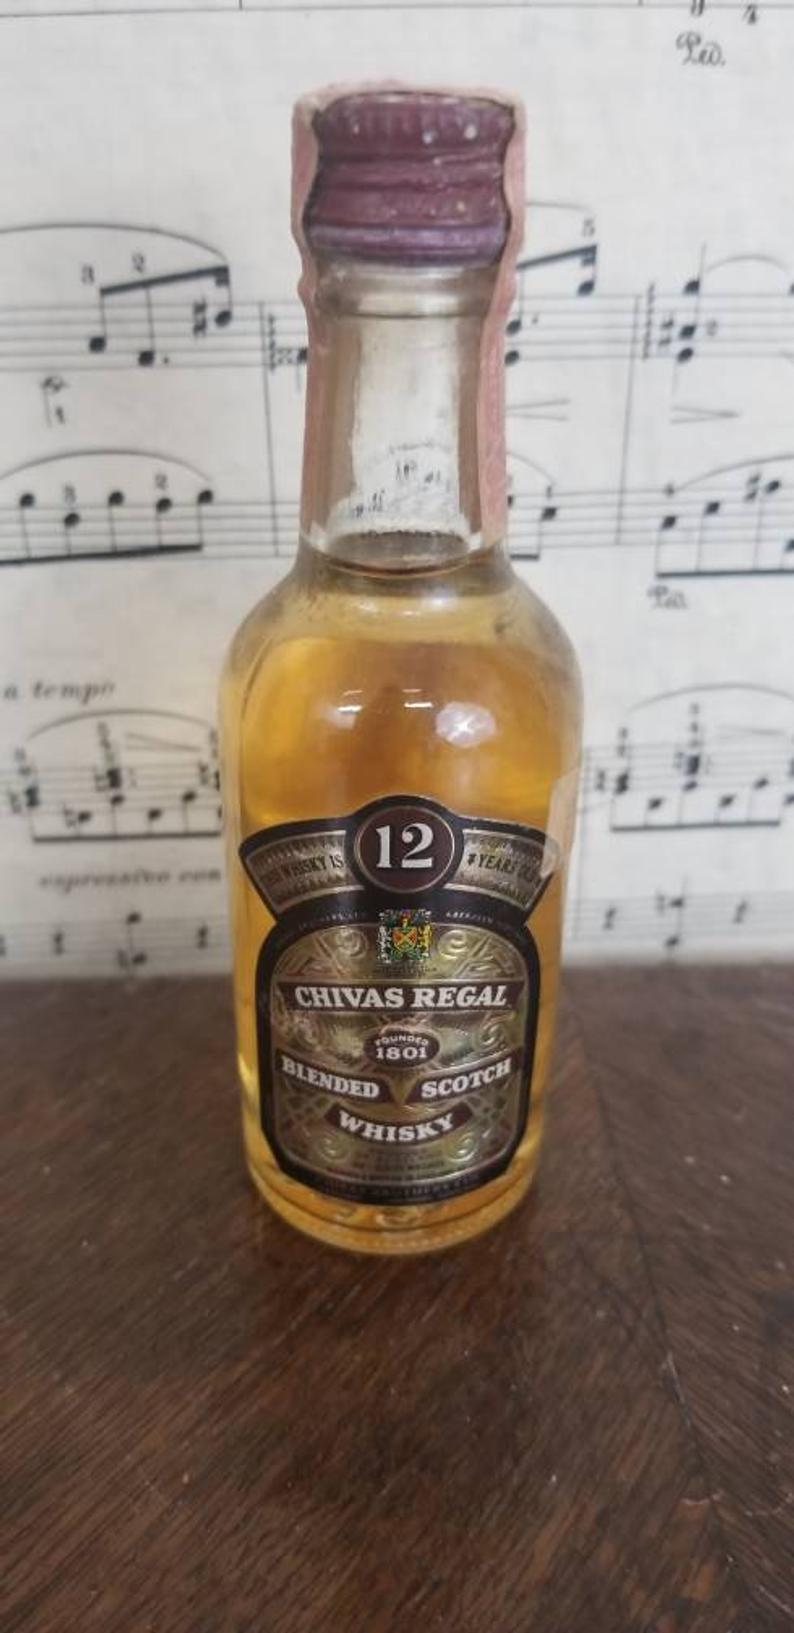Chivas Regal: (195, 69, 593, 1267)
